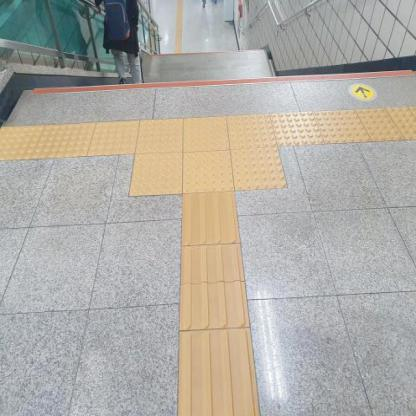podotacti: (180, 195, 262, 415), (0, 108, 415, 150)
